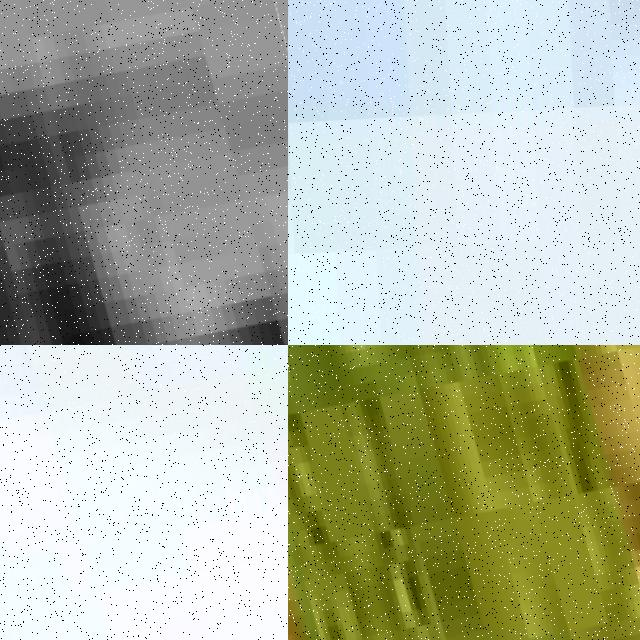0: (288, 345, 640, 640), (0, 0, 288, 345)
drone: (0, 345, 288, 640)
